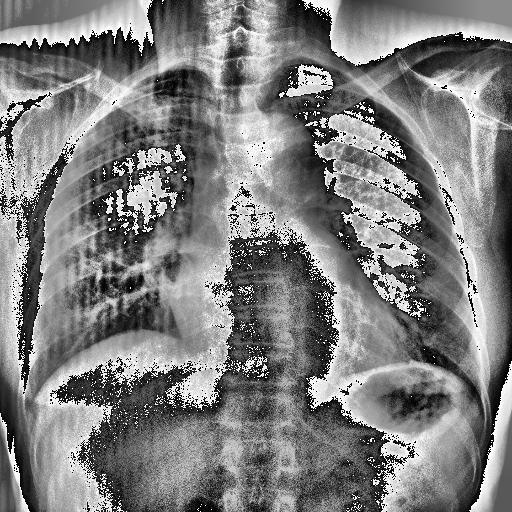0- Aortic enlargement: (174, 112, 342, 209)
3- Cardiomegaly: (162, 214, 420, 390)
5- ILD: (74, 89, 200, 169)
6- Infiltration: (84, 68, 192, 166), (72, 72, 194, 158)
